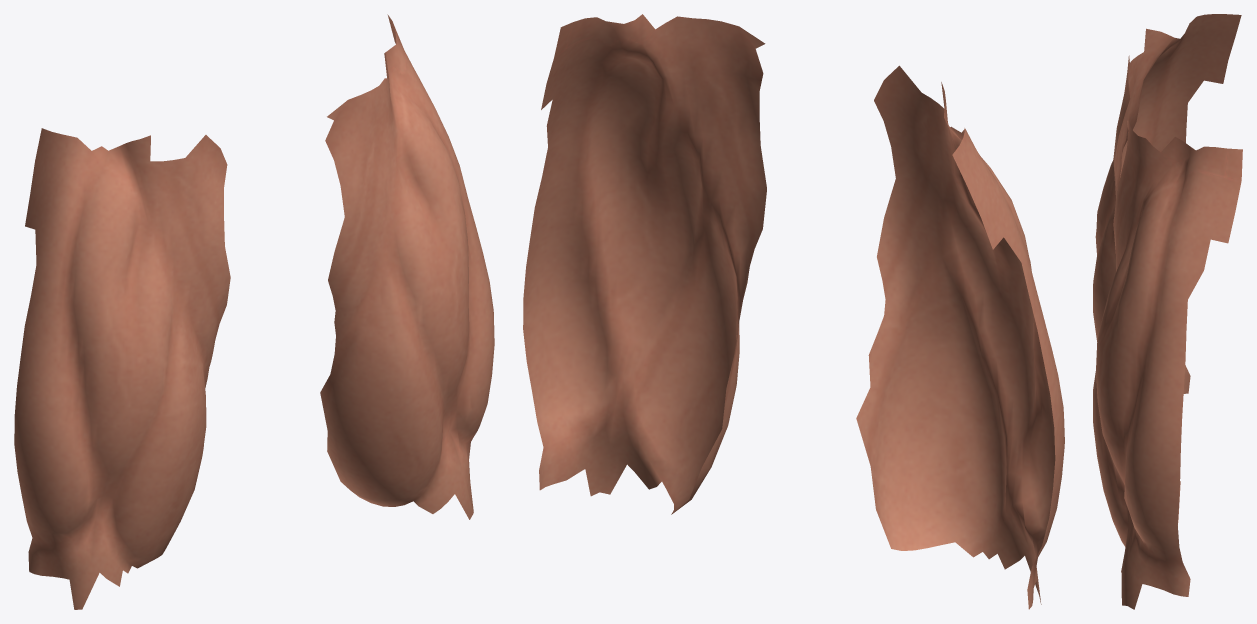
File: quads.glb
3 renders of one model, left to right at view 1: azimuth 30°, elevation 25°; view 2: azimuth 150°, elevation 25°; view 3: azimuth 270°, elevation 25°, orthographic. The views are drawn at different scales.
Parts seen in each view (by area): view 1: quads; view 2: quads; view 3: quads.
Part boxes in pixels (left/top/right/bottom): quads: left=14, top=14, right=494, bottom=609; quads: left=523, top=14, right=1064, bottom=609; quads: left=1093, top=14, right=1242, bottom=609.
Bounding box in the file's own units: 0.0499 × 0.047 × 0.0143.
1 material, 1 textured.
